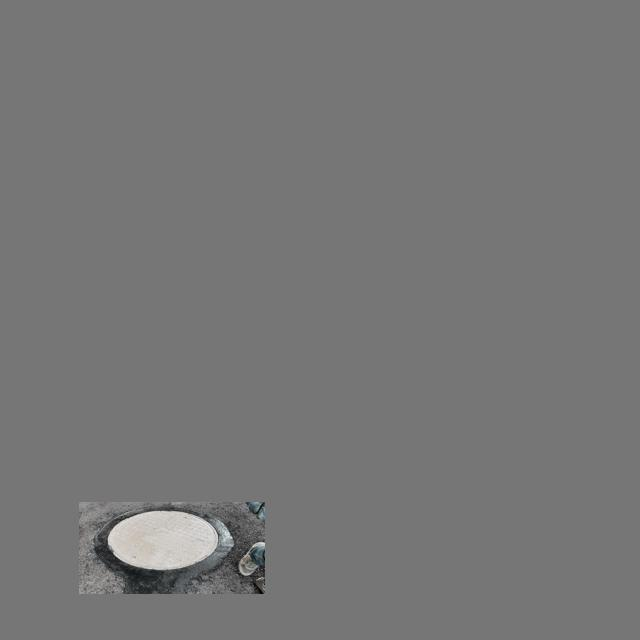good: (91, 505, 236, 584)
